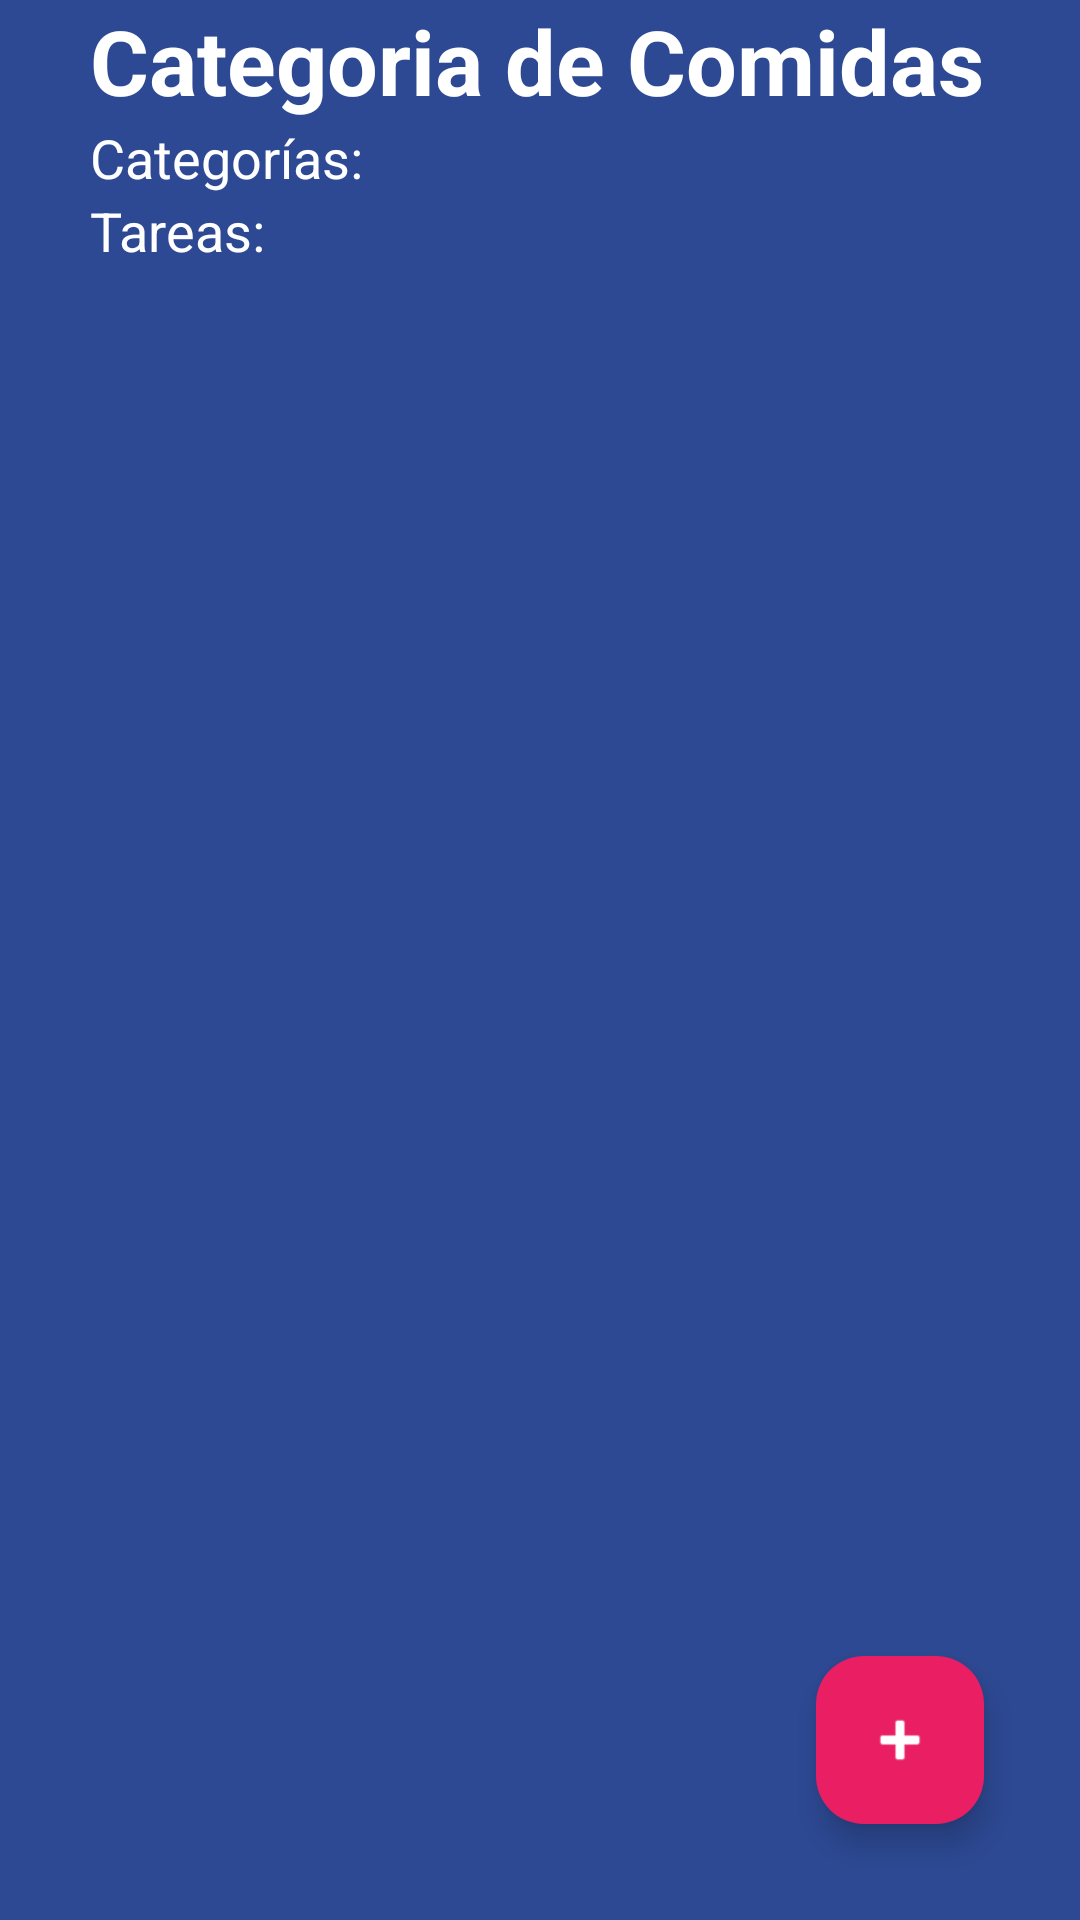

Locate icon controls on the screen. Image size 1080x1920, boxes as (x1, y1, x2, y2).
Botón para agregar una tarea: (816, 1656, 984, 1824)
